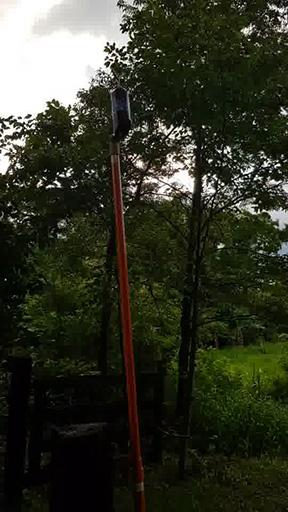Detector_Tensao_Contato: (108, 67, 133, 143)
Vara_Manobra: (107, 142, 146, 512)
